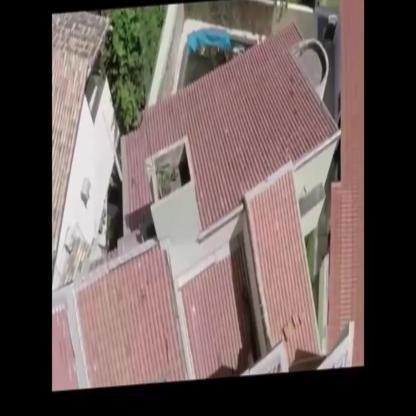agua: (190, 53, 223, 72)
